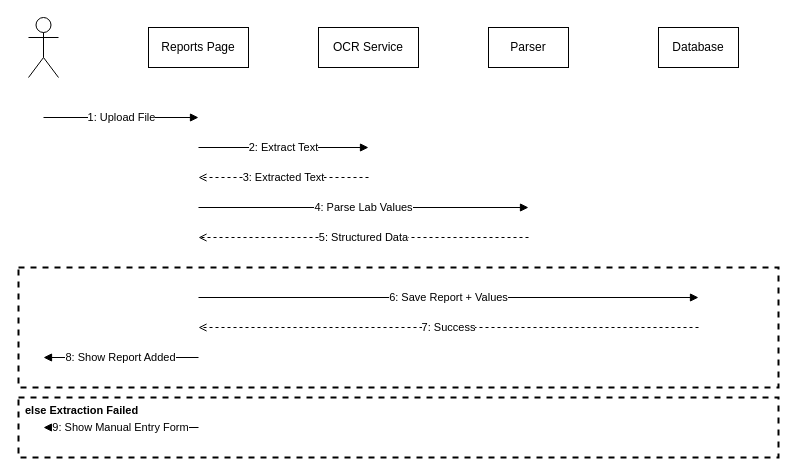
Image size: 796x476. Some labels were removed from this diagram. The centre of each missing label's shape, as x and y in pixels:
alt Extract Success: (398,327)
Patient: (43,47)
